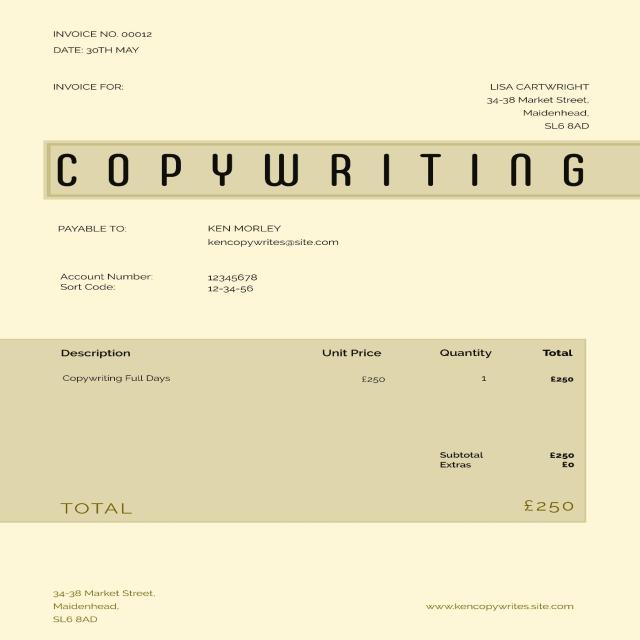paragraph: (52, 137, 600, 199), (40, 494, 577, 520), (47, 215, 348, 257), (47, 267, 284, 299), (479, 75, 606, 133), (422, 443, 582, 478), (39, 583, 163, 628), (417, 595, 579, 615), (46, 26, 163, 40), (49, 80, 145, 96), (47, 43, 146, 58)
table: (49, 339, 580, 406)
